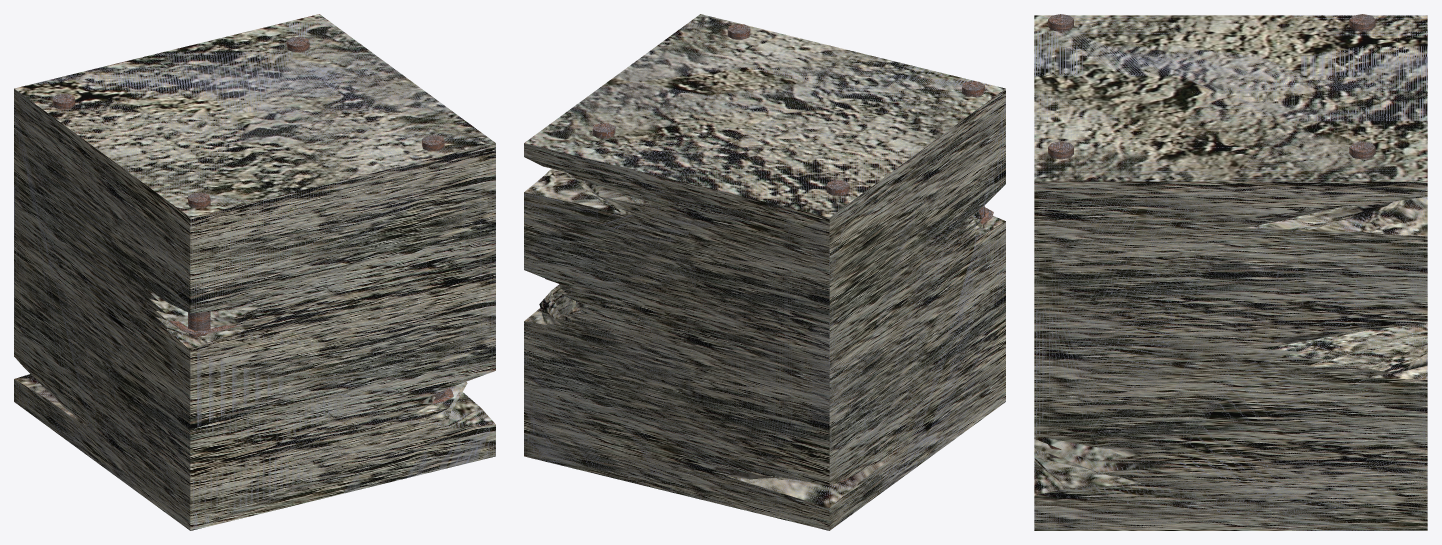
3 renders of one model, left to right at view 1: azimuth 30°, elevation 25°; view 2: azimuth 150°, elevation 25°; view 3: azimuth 270°, elevation 25°, orthographic. The views are drawn at different scales.
Visible parts, largest first — view 1: C-600sqr (×4), Rebar01; view 2: C-600sqr (×5); view 3: C-600sqr (×5), Rebar01.
Part boxes in pixels (box(x1,y1,x2,y2)): C-600sqr (×4): box(14, 14, 495, 530); Rebar01: box(188, 192, 210, 337); C-600sqr (×5): box(524, 14, 1005, 530); C-600sqr (×5): box(1034, 15, 1427, 530); Rebar01: box(1048, 141, 1073, 458).
Size of the model in its own units: 40.16 by 40.16 by 40.16.
Materials: 4 (3 with a texture image).
